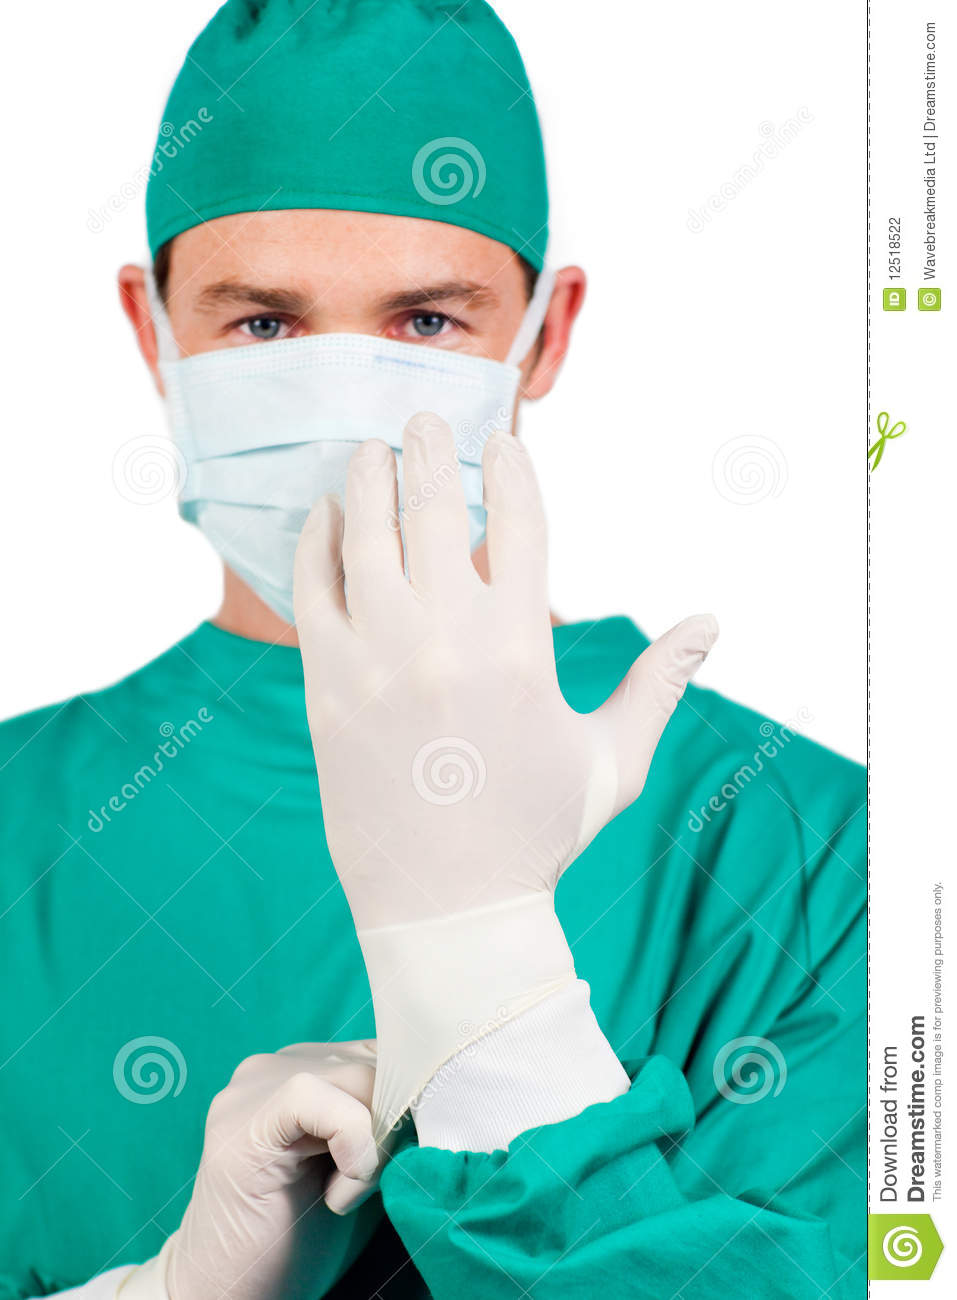mask: (146, 349, 564, 633)
